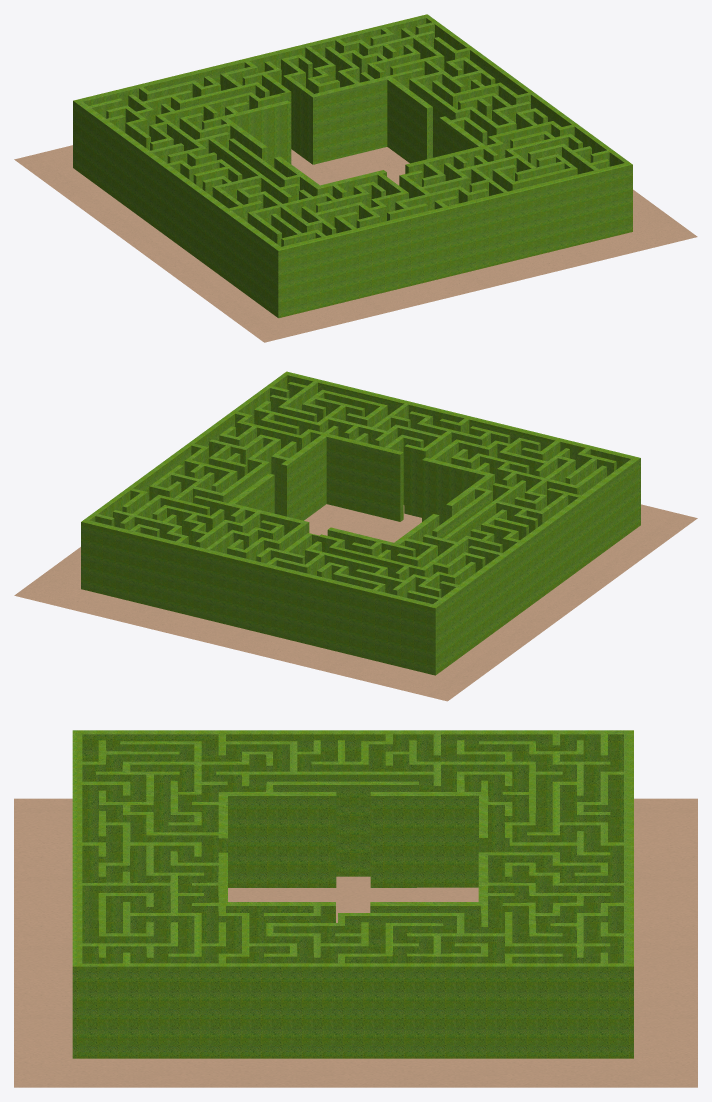
File: laberinto.glb
The picture shows the model from 3 angles, top to bottom: view 1: azimuth 30°, elevation 25°; view 2: azimuth 150°, elevation 25°; view 3: azimuth 270°, elevation 25°; orthographic projection. The views are drawn at different scales.
Parts seen in each view (by area): view 1: Curve, Plane; view 2: Curve, Plane; view 3: Curve, Plane.
Boxes of the visible parts, x1,y1,x2,y2 form: Curve: (73,14,632,318); Plane: (14,145,697,342); Curve: (81,371,640,675); Plane: (14,504,697,701); Curve: (72,730,633,1058); Plane: (14,798,697,1087).
Bounding box in the file's own units: 120 × 17.8 × 120.
2 materials, 2 textured.
